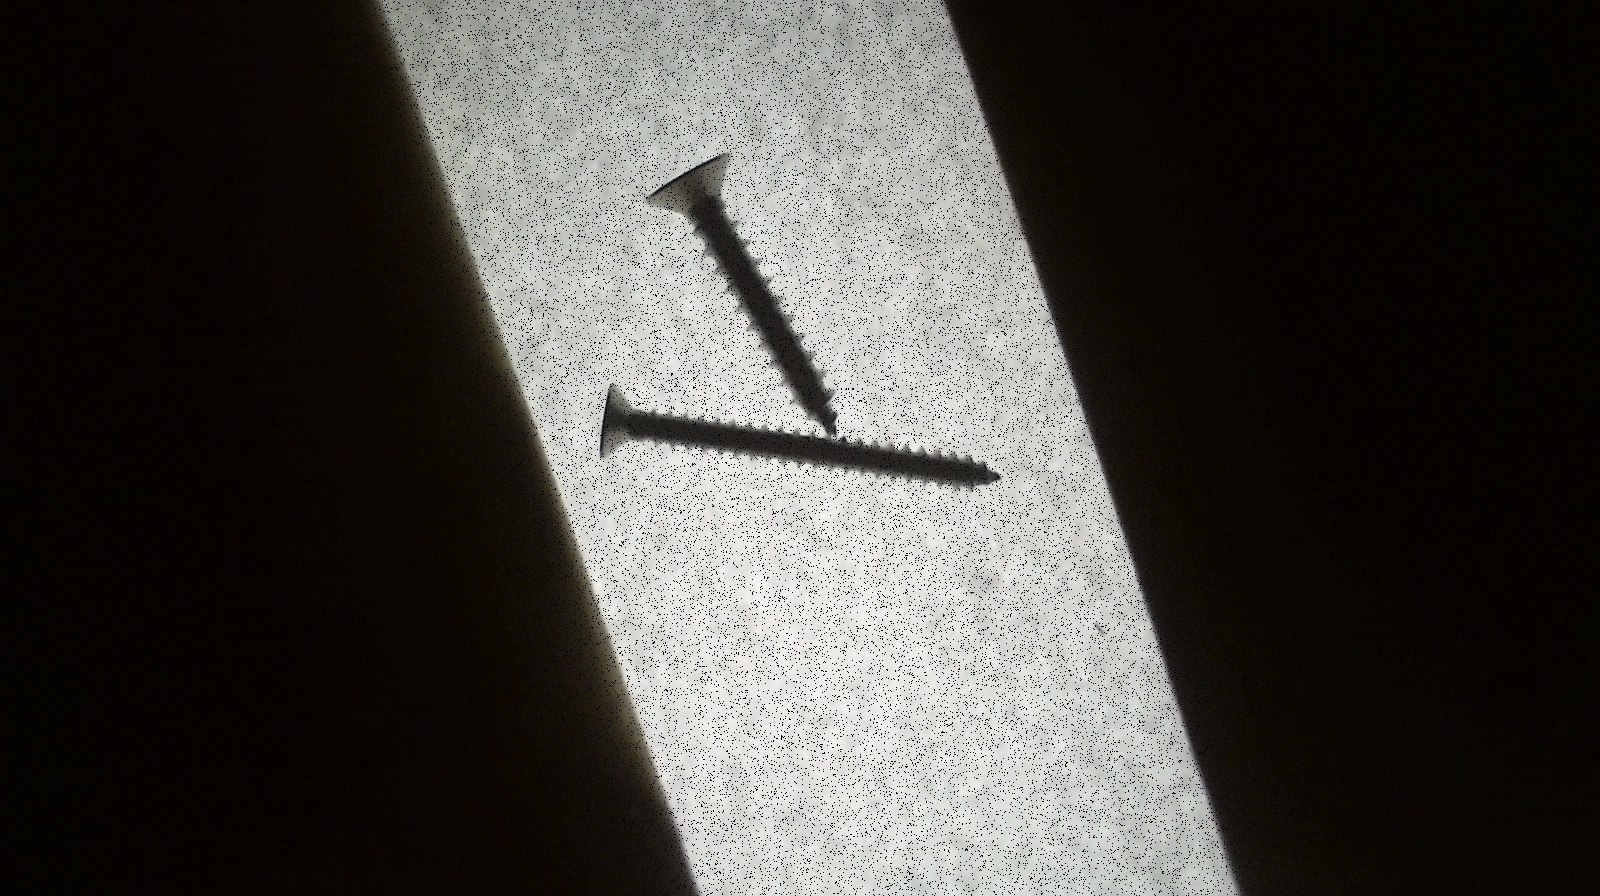S001: (637, 150, 841, 436)
S002: (596, 379, 1000, 495)
